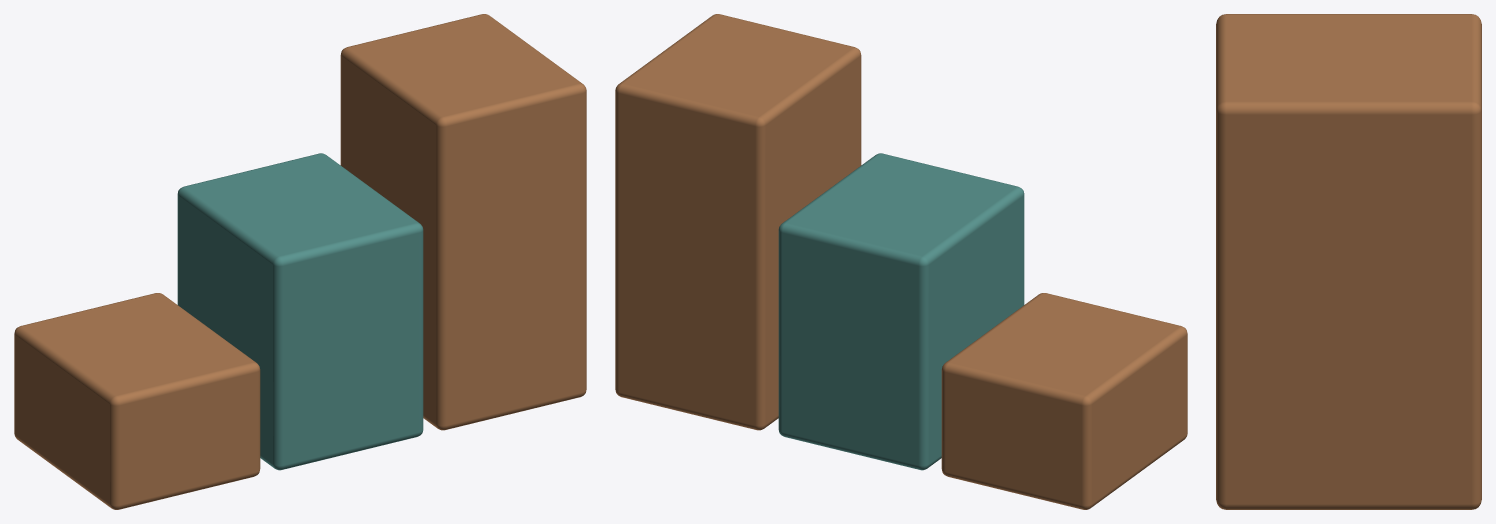
The model's file is display.glb.
3 renders of one model, left to right at view 1: azimuth 30°, elevation 25°; view 2: azimuth 150°, elevation 25°; view 3: azimuth 270°, elevation 25°, orthographic. The views are drawn at different scales.
Visible parts, largest first — view 1: display; view 2: display; view 3: display.
Part boxes in pixels (x1=…): display: x1=14, y1=14, x2=586, y2=509; display: x1=615, y1=14, x2=1187, y2=509; display: x1=1216, y1=14, x2=1481, y2=509.
Bounding box in the file's own units: 1.75 × 1.1 × 0.65.
